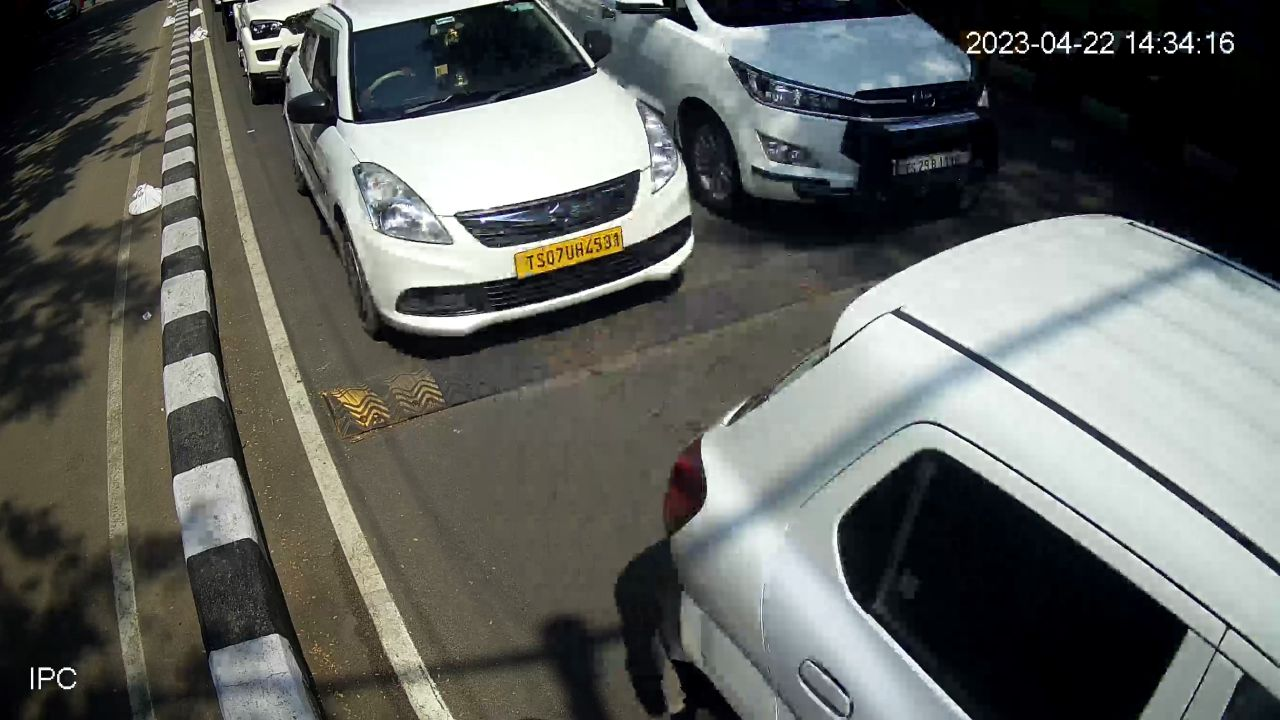license_plate: (512, 221, 625, 286), (893, 143, 967, 183)
